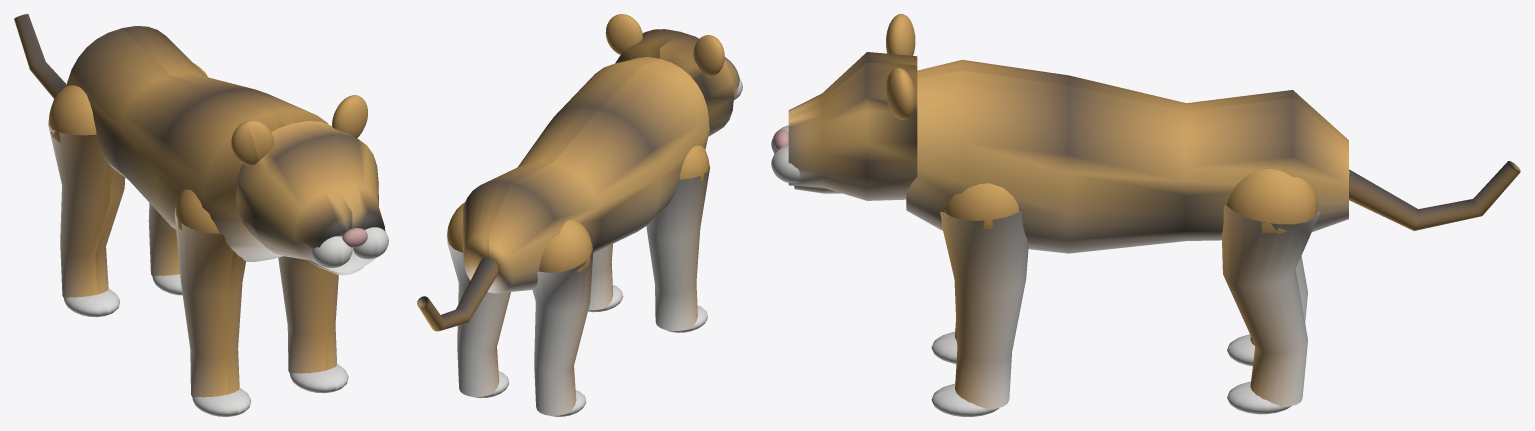
File: tiger.glb
3 renders of one model, left to right at view 1: azimuth 30°, elevation 25°; view 2: azimuth 150°, elevation 25°; view 3: azimuth 270°, elevation 25°, orthographic. The views are drawn at different scales.
Visible parts, largest first — view 1: Body, Head, Leg_RL, Leg_FL, Leg_FR, Leg_RR, Tail, Ear_L, Ear_R; view 2: Body, Leg_RL, Leg_FL, Leg_RR, Head, Tail, Leg_FR, Ear_R, Ear_L; view 3: Body, Leg_RR, Leg_FR, Head, Tail, Ear_R, Leg_RL, Ear_L.
Part boxes in pixels (x1,y1,x2,y2): Body: [66, 26, 328, 261]; Head: [236, 121, 388, 272]; Leg_RL: [48, 85, 125, 317]; Leg_FL: [174, 189, 250, 416]; Leg_FR: [278, 256, 348, 393]; Leg_RR: [148, 63, 207, 295]; Tail: [14, 14, 66, 98]; Ear_L: [231, 120, 273, 165]; Ear_R: [332, 95, 367, 137]; Body: [462, 57, 709, 293]; Leg_RL: [532, 219, 593, 416]; Leg_FL: [646, 145, 709, 332]; Leg_RR: [446, 202, 510, 398]; Head: [615, 29, 742, 136]; Tail: [417, 257, 498, 331]; Leg_FR: [588, 244, 623, 312]; Ear_R: [605, 14, 642, 54]; Ear_L: [693, 35, 724, 76]; Body: [906, 59, 1348, 253]; Leg_RR: [1221, 169, 1320, 414]; Leg_FR: [931, 183, 1028, 416]; Head: [771, 52, 917, 200]; Tail: [1349, 161, 1520, 230]; Ear_R: [886, 67, 915, 119]; Leg_RL: [1227, 256, 1307, 366]; Ear_L: [886, 14, 915, 55].
Size of the model in its own units: 0.7354 by 1.35 by 2.68.
